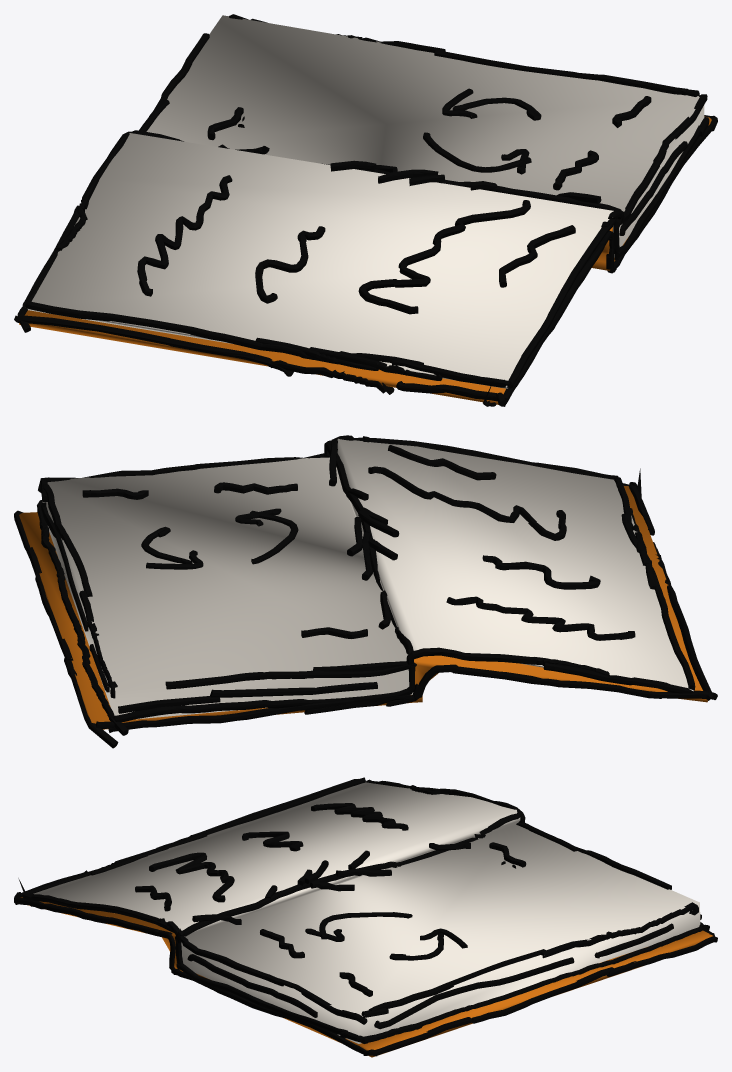
3 views of the same model, one above another, from view 1: azimuth 30°, elevation 25°; view 2: azimuth 150°, elevation 25°; view 3: azimuth 270°, elevation 25° (orthographic). The views are drawn at different scales.
Parts seen in each view (by area): view 1: notebook_, lines_notebook; view 2: notebook_, lines_notebook; view 3: notebook_, lines_notebook.
Boxes of the visible parts, x1,y1,x2,y2 form: notebook_: [19, 15, 711, 404]; lines_notebook: [14, 14, 717, 406]; notebook_: [19, 438, 707, 729]; lines_notebook: [14, 435, 717, 748]; notebook_: [20, 781, 712, 1057]; lines_notebook: [14, 777, 717, 1056].
Size of the model in its own units: 0.4625 by 0.0568 by 0.472.
